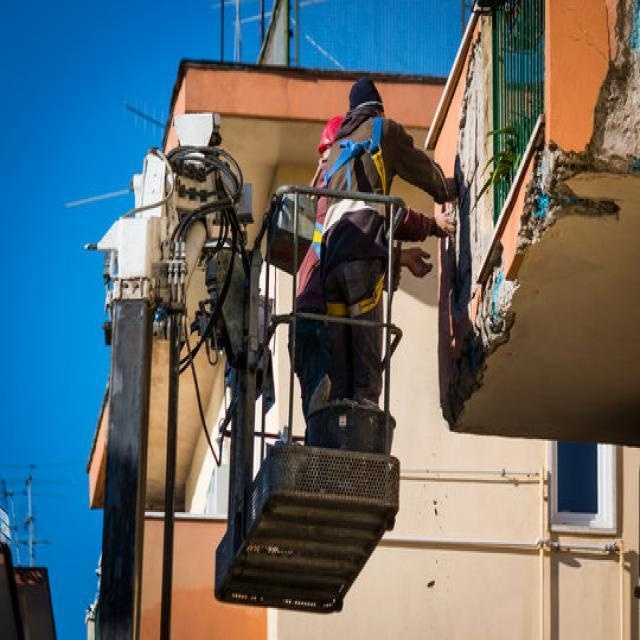Arnes_seguridad: (321, 116, 386, 316), (322, 115, 382, 200)
